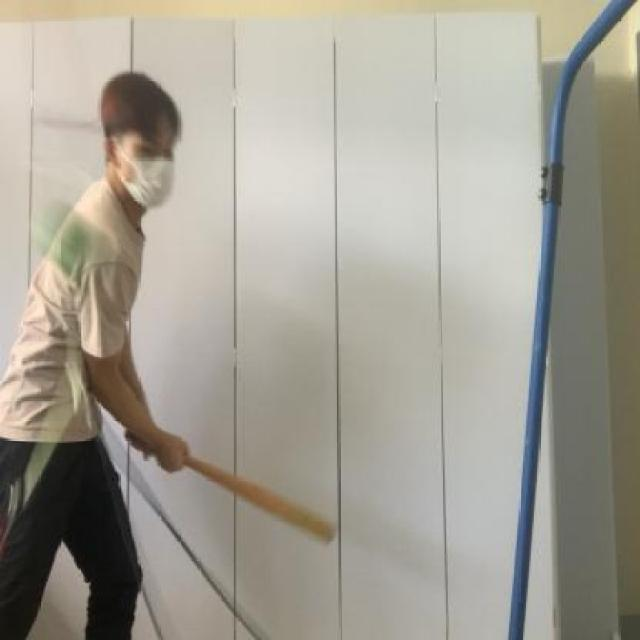baseball: (28, 199, 122, 286)
